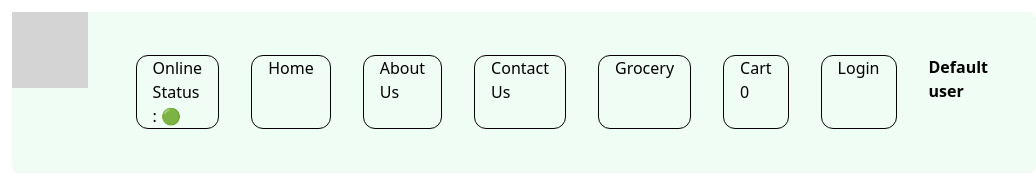
Scenario: Should render Header component with a Cart item
Click the button "Login" at [859, 92], box [821,55,896,129]
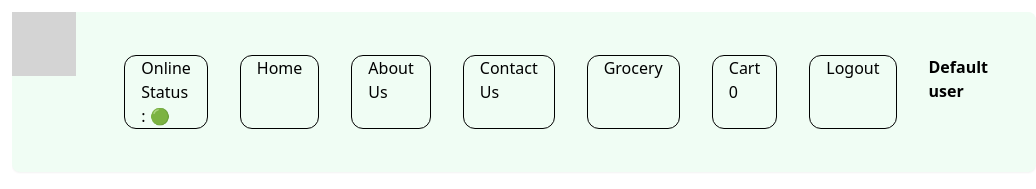
Now the button "Logout" is shown, box [809,55,897,129]
